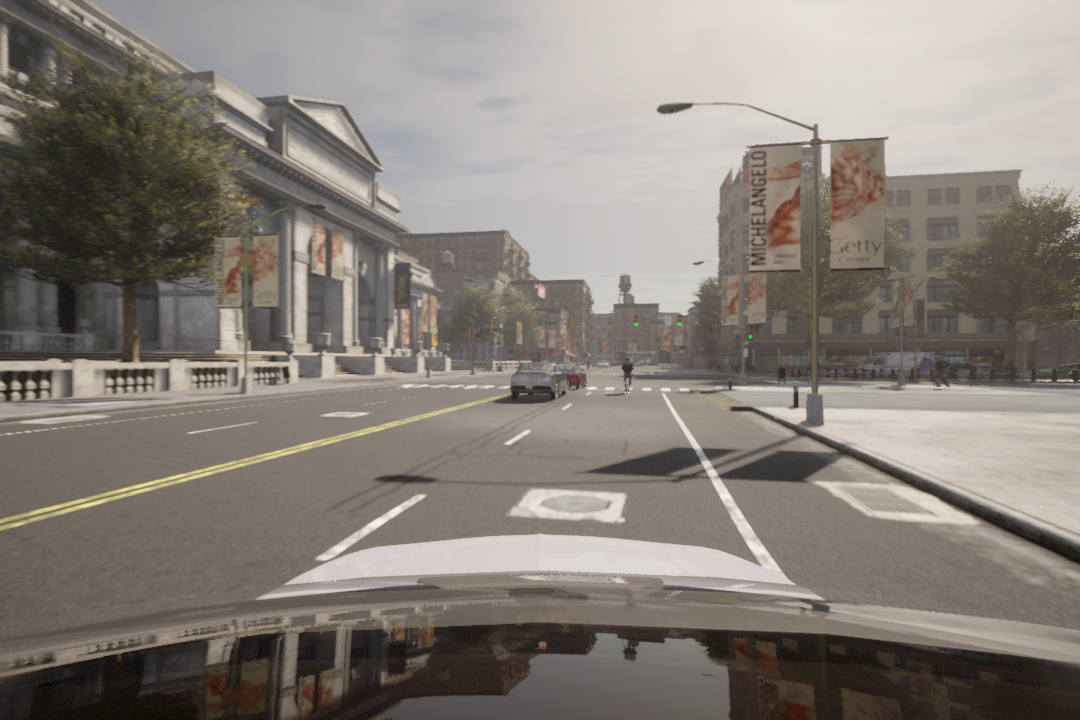TrafficLight: (746, 326, 753, 343), (633, 315, 638, 328), (677, 315, 682, 328)
walkside: (399, 379, 708, 397)
